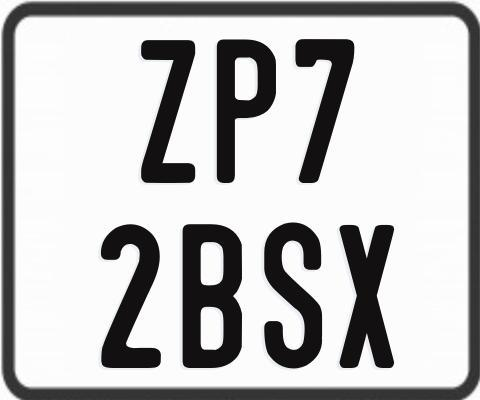2: (101, 221, 164, 371)
7: (295, 37, 358, 181)
B: (183, 224, 246, 368)
P: (214, 38, 273, 186)
S: (262, 220, 326, 370)
X: (339, 224, 397, 370)
Z: (138, 37, 195, 181)
